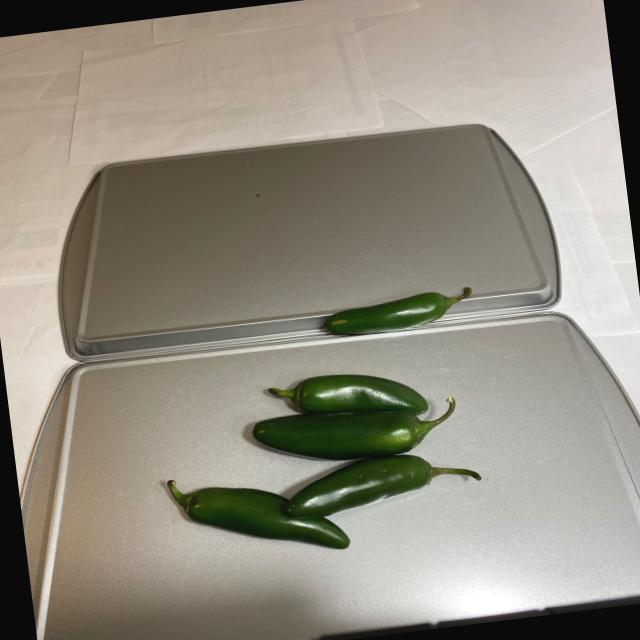chilli: (136, 280, 512, 566)
